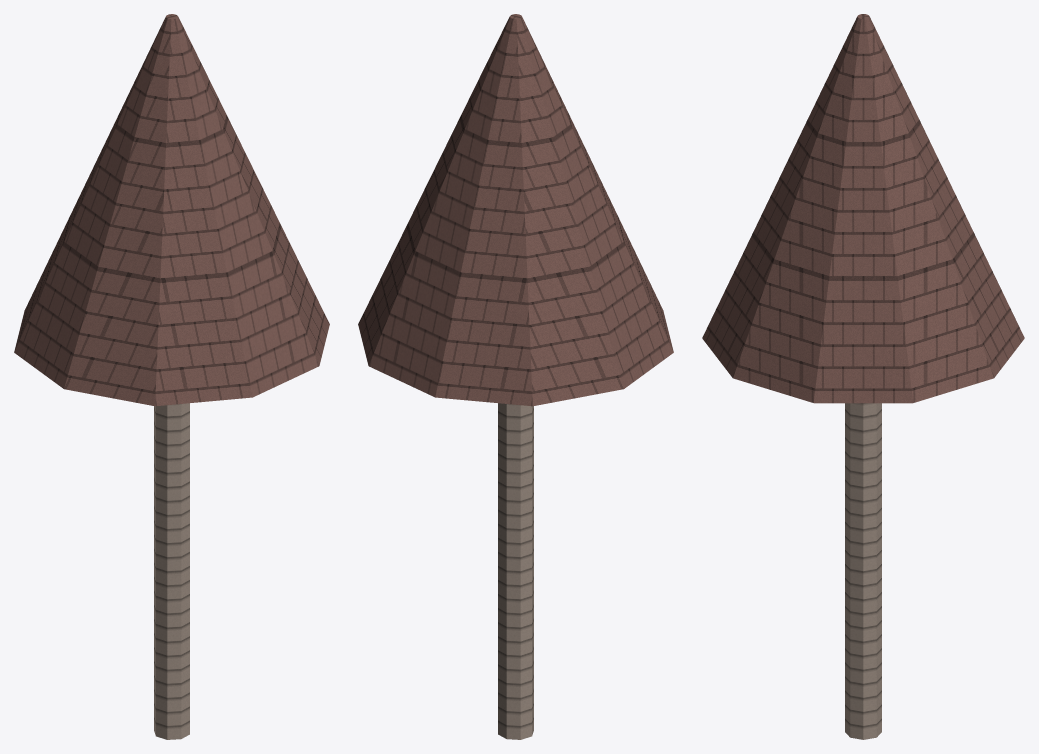
The model's file is tree_eastern_redcedar.glb.
3 renders of one model, left to right at view 1: azimuth 30°, elevation 25°; view 2: azimuth 150°, elevation 25°; view 3: azimuth 270°, elevation 25°, orthographic.
Parts seen in each view (by area): view 1: tree_eastern_redcedar-col; view 2: tree_eastern_redcedar-col; view 3: tree_eastern_redcedar-col.
Boxes of the visible parts, <box> form: tree_eastern_redcedar-col: <box>14,14,329,739</box>; tree_eastern_redcedar-col: <box>358,14,673,739</box>; tree_eastern_redcedar-col: <box>702,14,1024,739</box>.
Size of the model in its own units: 2.47 by 6.36 by 2.6.
2 materials, 2 textured.
